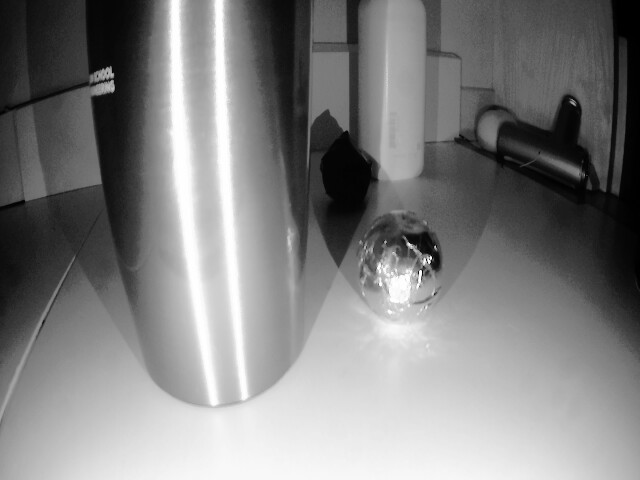black: (322, 140, 372, 206)
silver: (354, 211, 442, 325)
